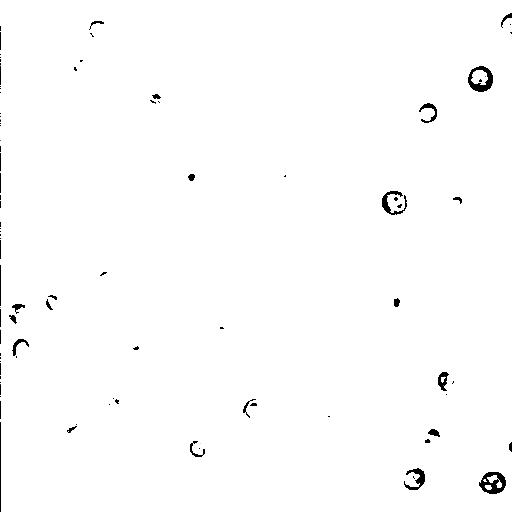micro-algae: (305, 23, 345, 65), (93, 25, 134, 63), (382, 16, 419, 53), (118, 395, 153, 431), (270, 165, 301, 197), (455, 333, 486, 365), (381, 283, 412, 313), (379, 189, 408, 217), (467, 65, 495, 93), (401, 466, 427, 491), (242, 398, 267, 423), (479, 471, 507, 493), (66, 53, 91, 77), (64, 423, 87, 449), (95, 395, 118, 419), (123, 338, 148, 360), (182, 164, 204, 187), (417, 102, 439, 123), (421, 428, 443, 445), (87, 19, 106, 38), (437, 373, 457, 390), (188, 439, 206, 457), (500, 11, 511, 35), (447, 194, 463, 209)
